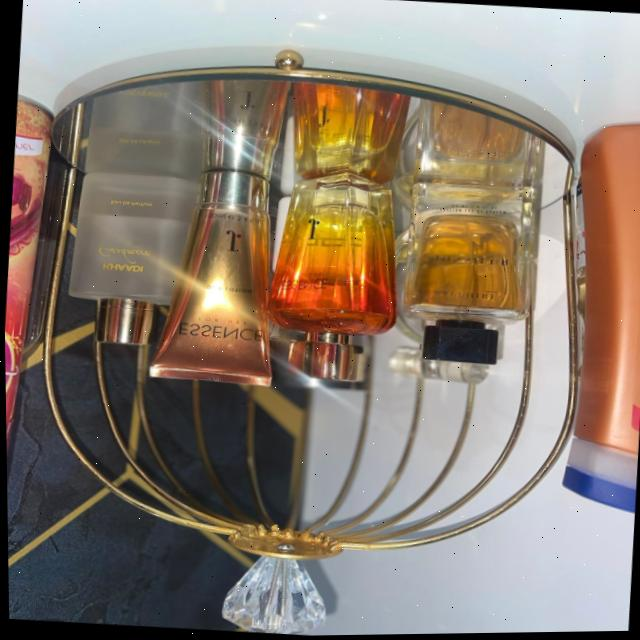foundation: (149, 165, 288, 382)
primer: (68, 140, 195, 349)
setting spray: (251, 175, 405, 398), (398, 163, 544, 390)
